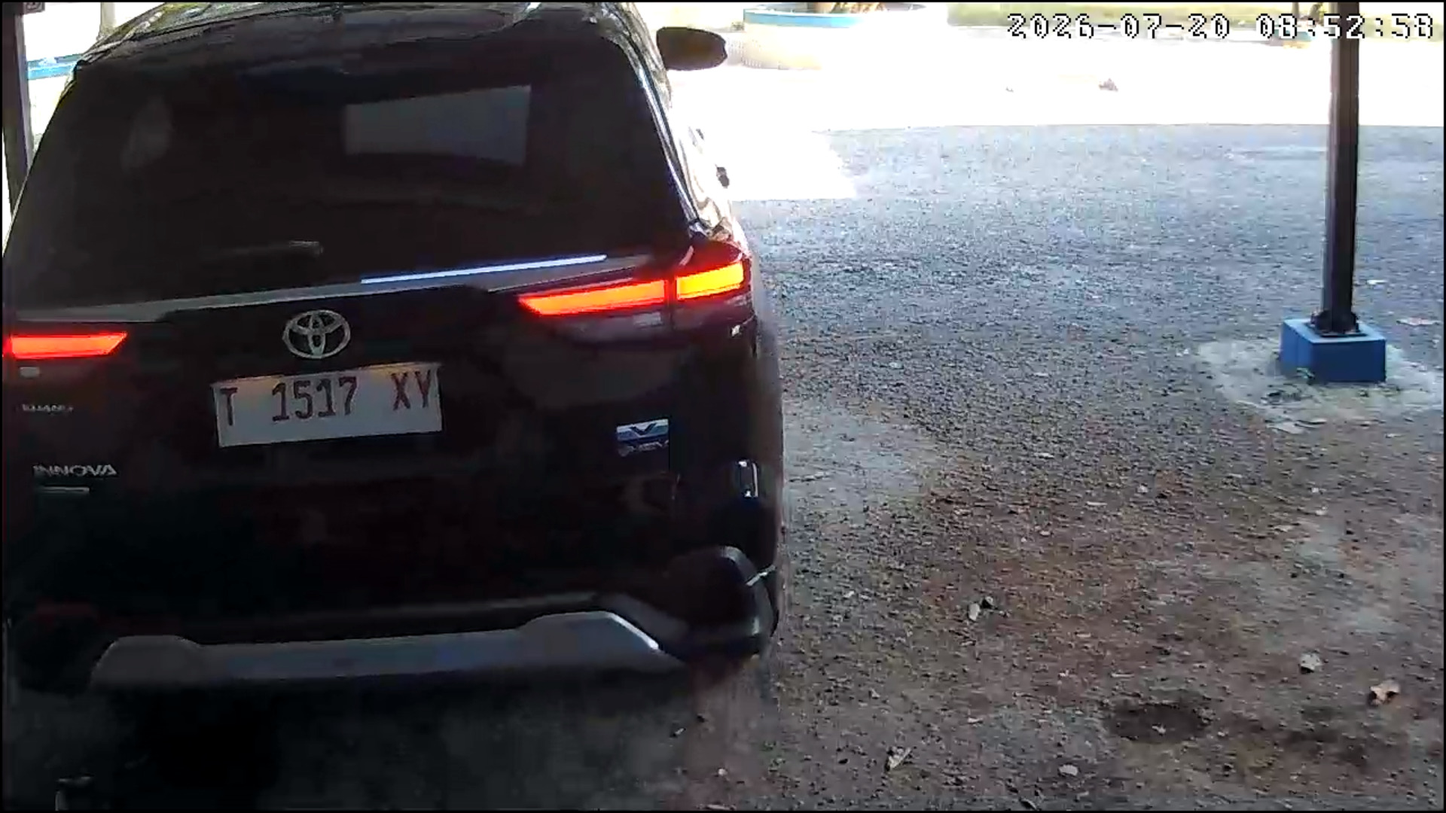plat nomor: (209, 361, 450, 455)
